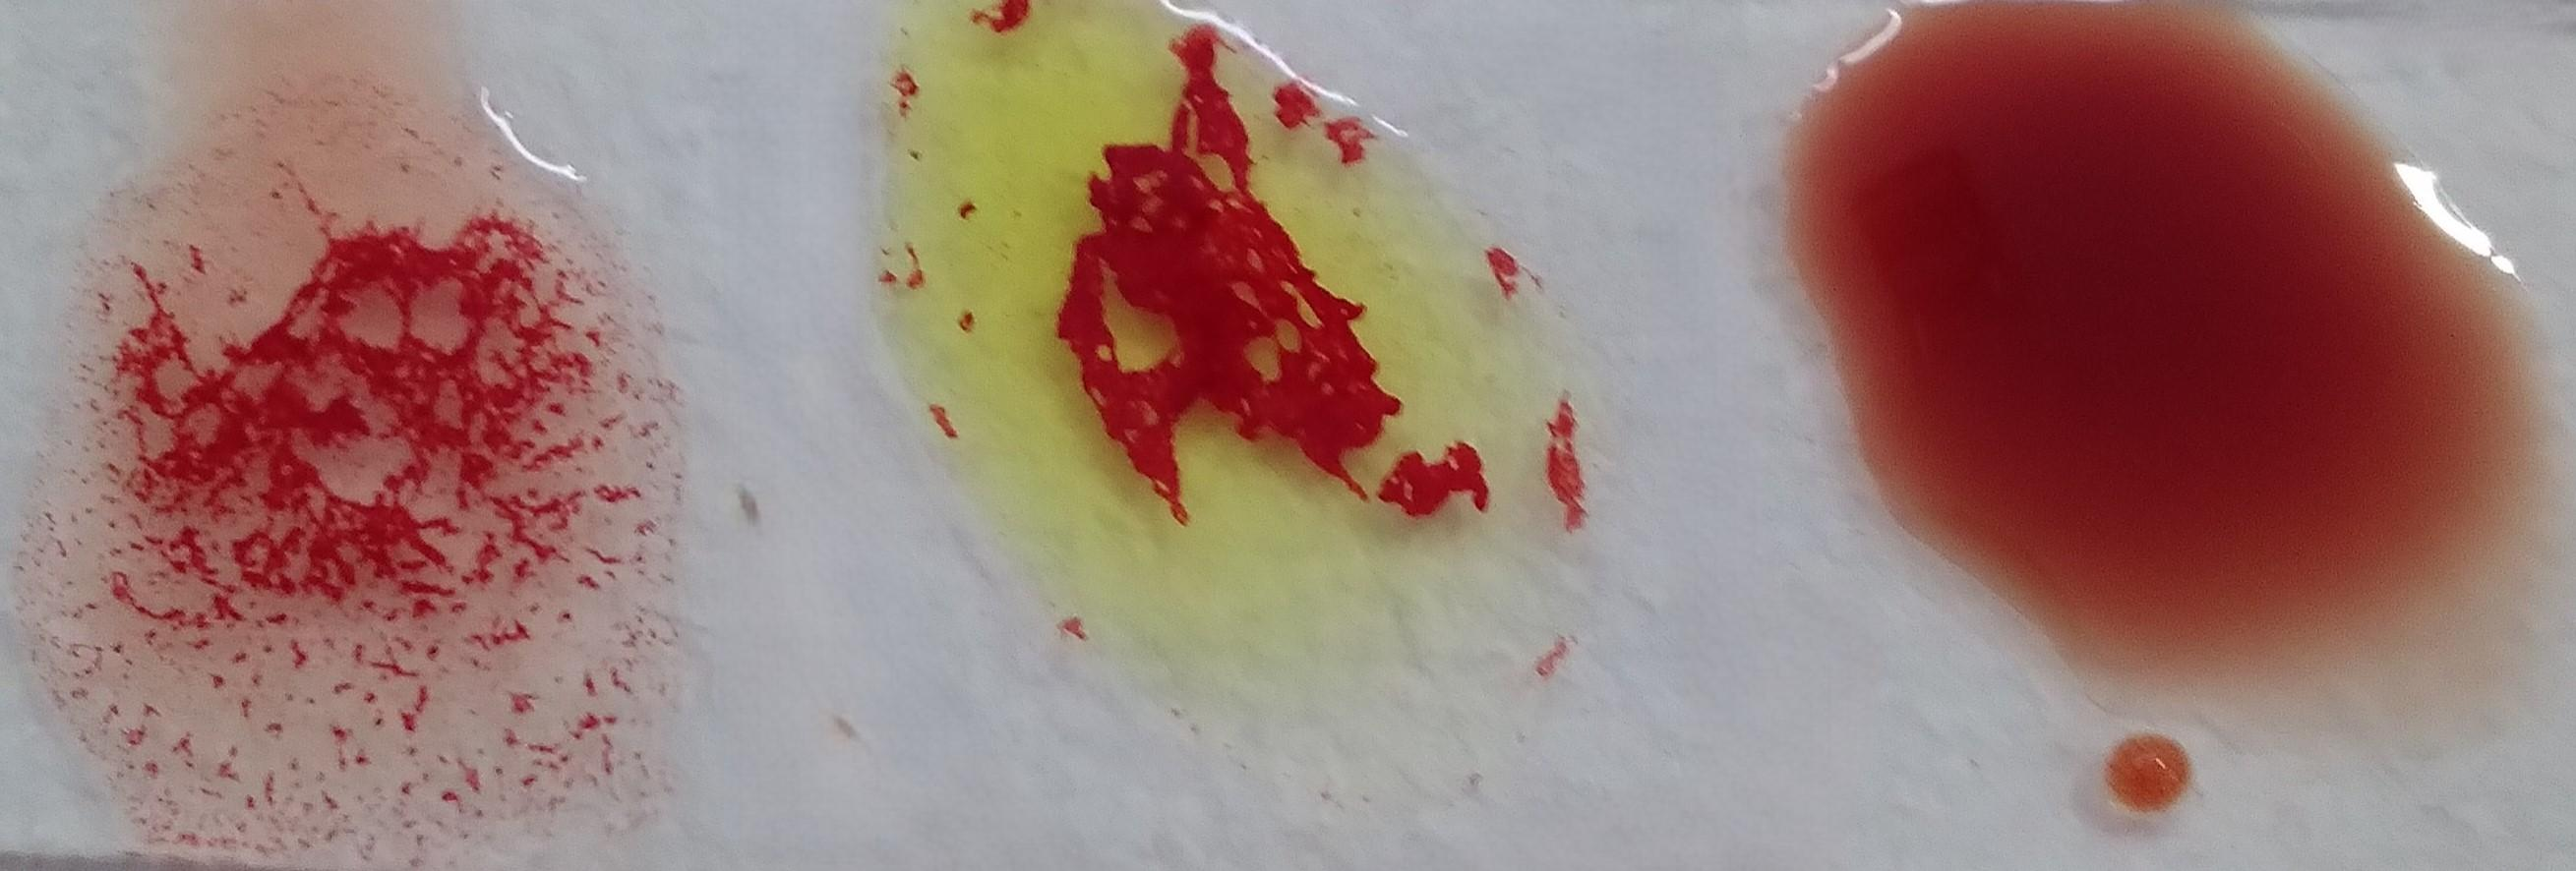B: (881, 10, 1589, 698)
D: (67, 35, 623, 871)
